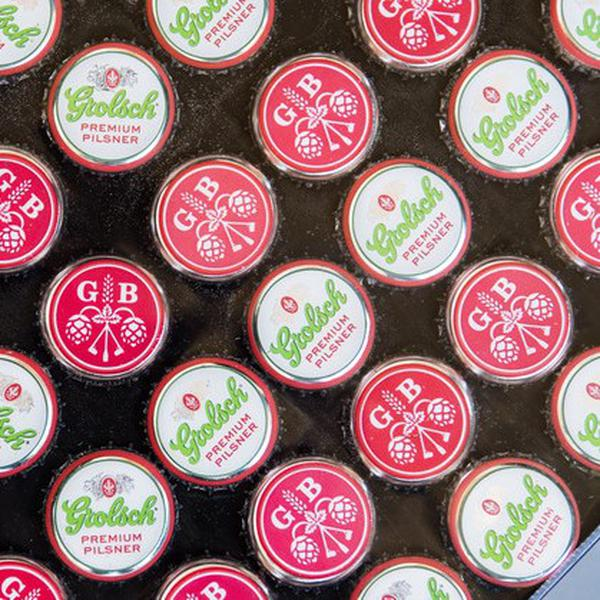grolsch: (35, 251, 173, 383), (247, 455, 377, 582), (148, 155, 279, 280), (447, 254, 571, 383), (249, 52, 377, 176), (347, 353, 470, 482)
